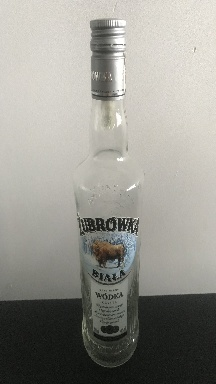butelka: (71, 14, 143, 370)
